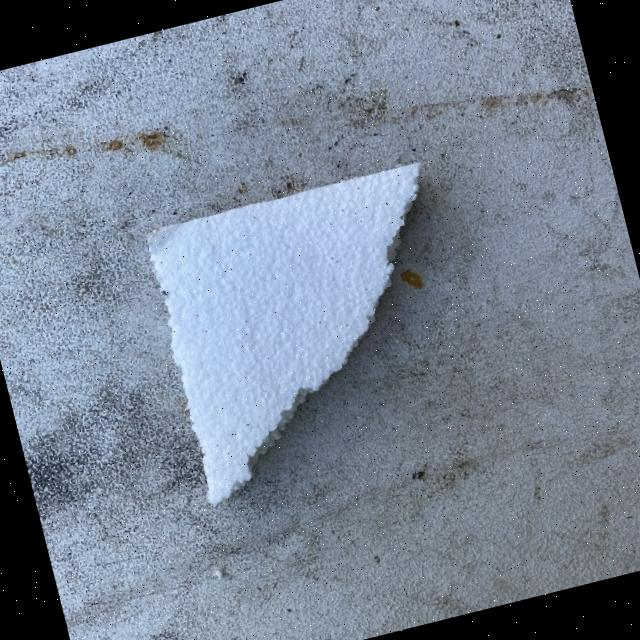styrofoam: (138, 158, 488, 507)
